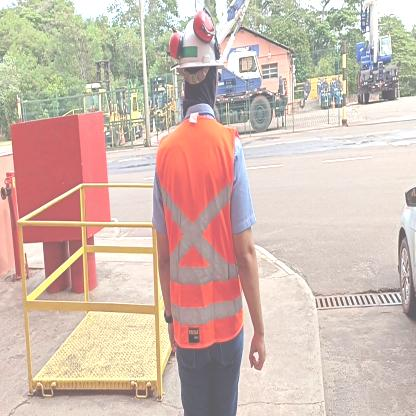Balaclava: (182, 66, 217, 113)
Capacete: (170, 13, 227, 68)
colete: (161, 129, 244, 336)
